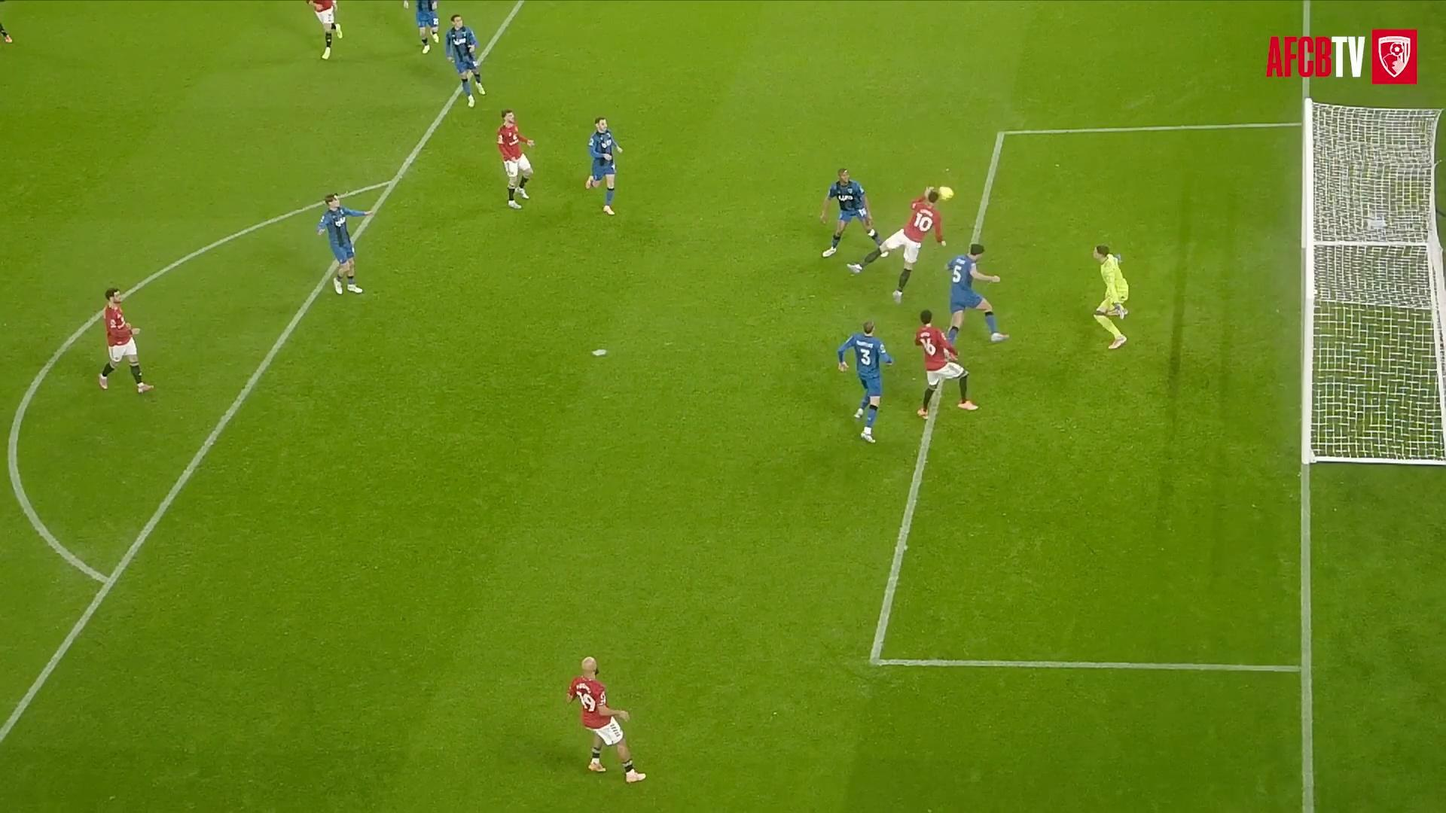football: (938, 186, 953, 200)
player: (848, 187, 945, 303), (568, 657, 645, 782), (914, 311, 977, 418), (837, 321, 892, 442), (947, 243, 1008, 342), (99, 288, 153, 392), (317, 194, 371, 294), (820, 169, 881, 257), (445, 14, 485, 107), (497, 110, 534, 209), (1093, 245, 1128, 349), (584, 117, 621, 215), (308, 0, 342, 59), (415, 0, 439, 53), (0, 23, 12, 43)
